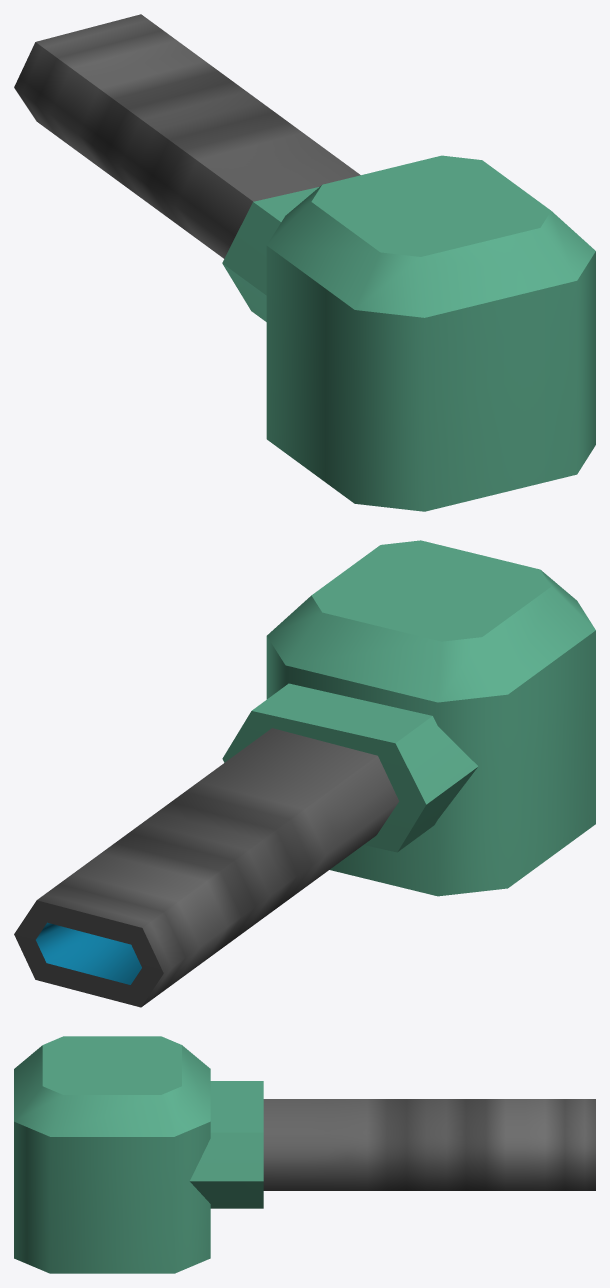
Rendered from MachineGun1Enemy2.fbx.
The picture shows the model from 3 angles, top to bottom: view 1: azimuth 30°, elevation 25°; view 2: azimuth 150°, elevation 25°; view 3: azimuth 270°, elevation 25°; orthographic projection. The views are drawn at different scales.
Parts seen in each view (by area): view 1: MachineGun1Enemy2; view 2: MachineGun1Enemy2; view 3: MachineGun1Enemy2.
Part boxes in pixels (box(x1,y1,x2,y2)): MachineGun1Enemy2: box(14, 14, 595, 511); MachineGun1Enemy2: box(14, 540, 595, 1007); MachineGun1Enemy2: box(14, 1036, 595, 1273).
Bounding box in the file's own units: 0.8578 × 0.29 × 0.271.
